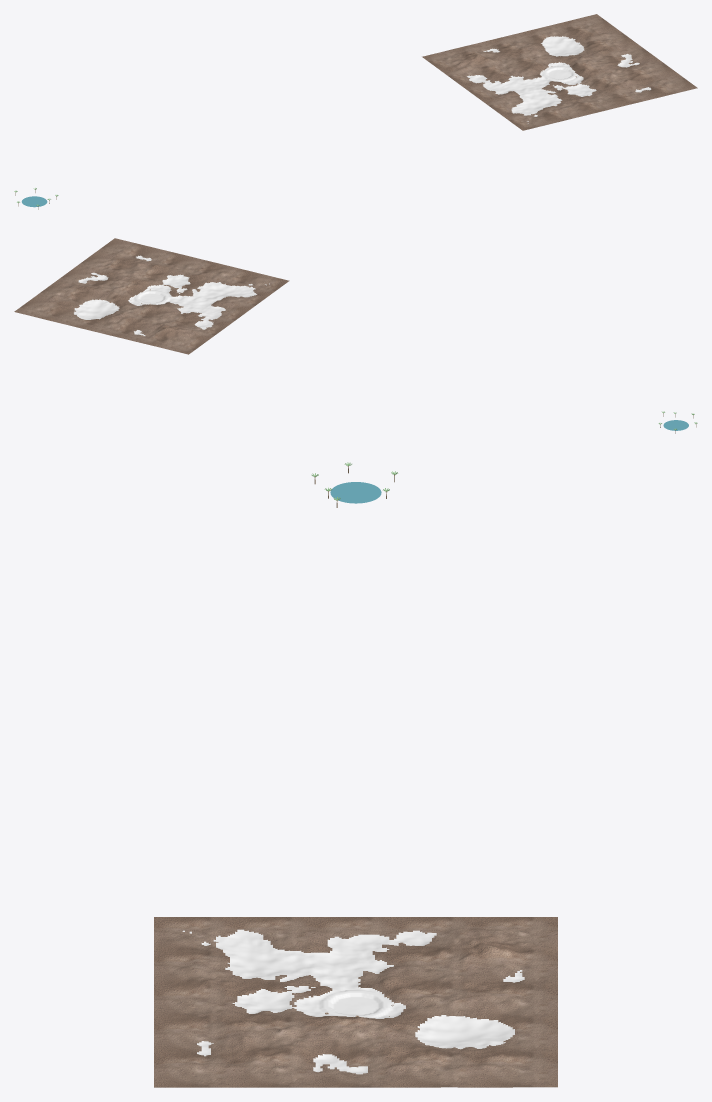
The model's file is terrain_desert_oasis_hd.glb.
The picture shows the model from 3 angles, top to bottom: view 1: azimuth 30°, elevation 25°; view 2: azimuth 150°, elevation 25°; view 3: azimuth 270°, elevation 25°; orthographic projection. The views are drawn at different scales.
Visible parts, largest first — view 1: OasisBase; view 2: OasisBase; view 3: OasisBase.
Part boxes in pixels (<box>): OasisBase: <box>422,14,697,130</box>; OasisBase: <box>14,238,289,354</box>; OasisBase: <box>154,917,557,1087</box>.
Size of the model in its own units: 1084 by 12.47 by 300.
Materials: 8 (1 with a texture image).
